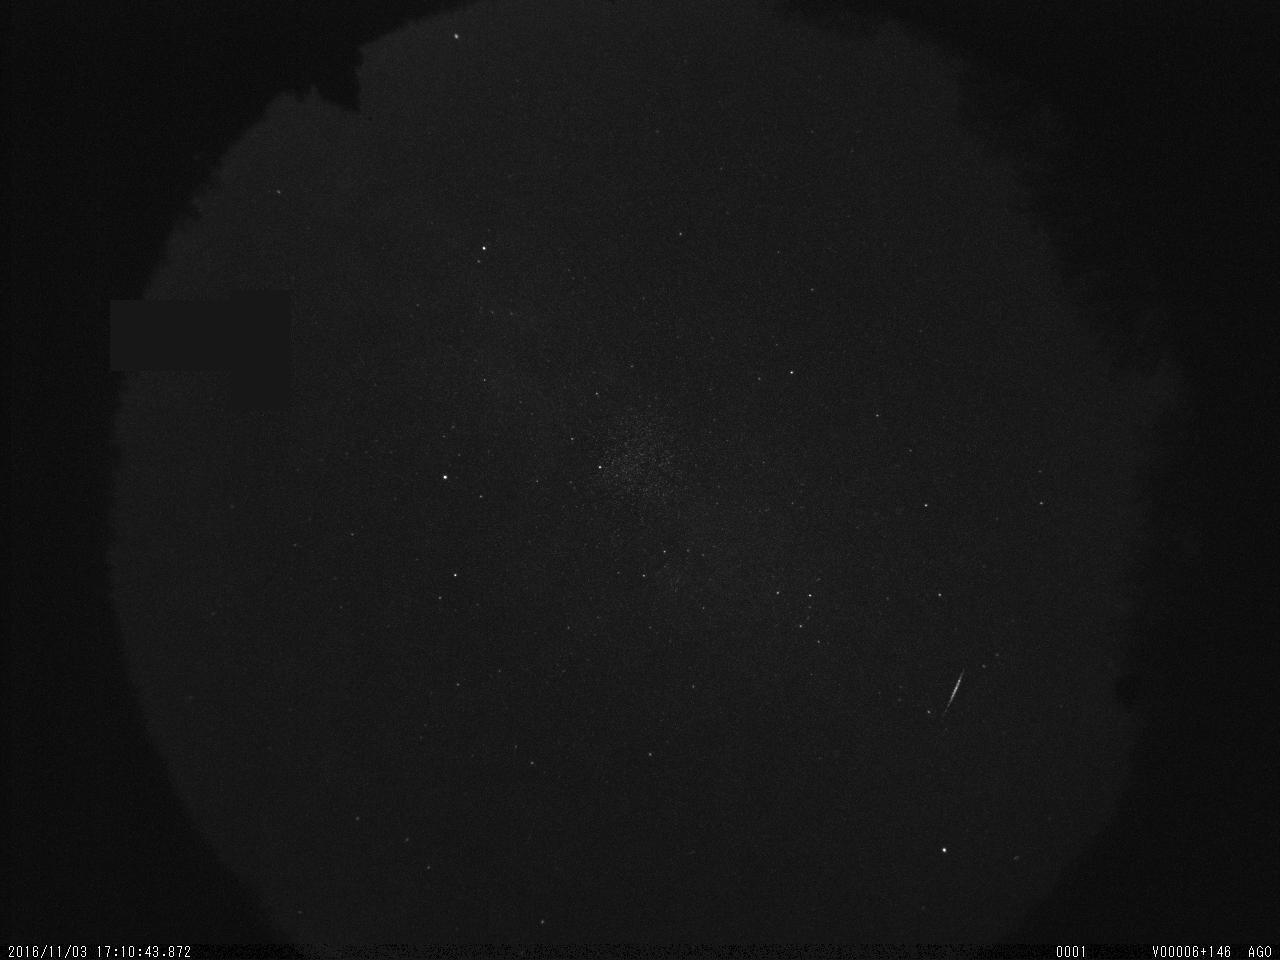meteor: (933, 654, 973, 729)
